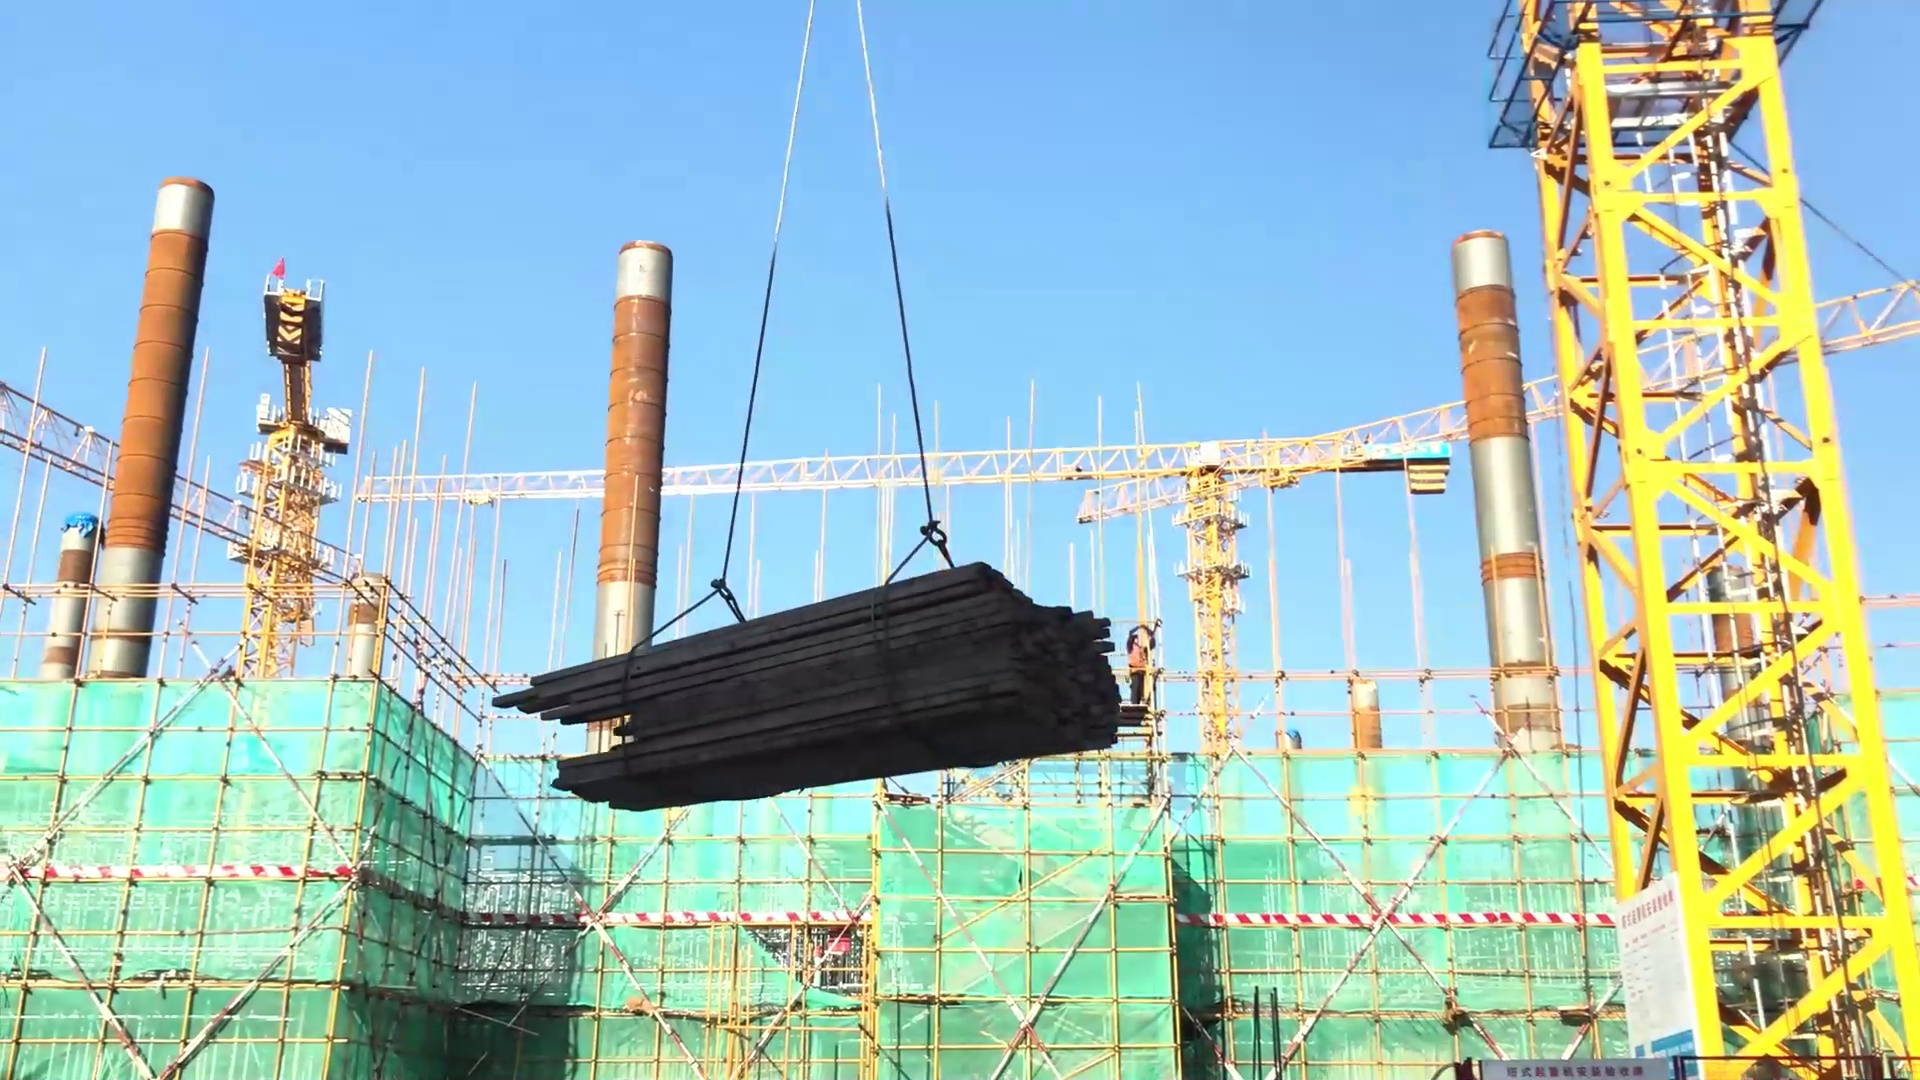person: (1122, 615, 1160, 706)
wood: (484, 552, 1125, 816)
